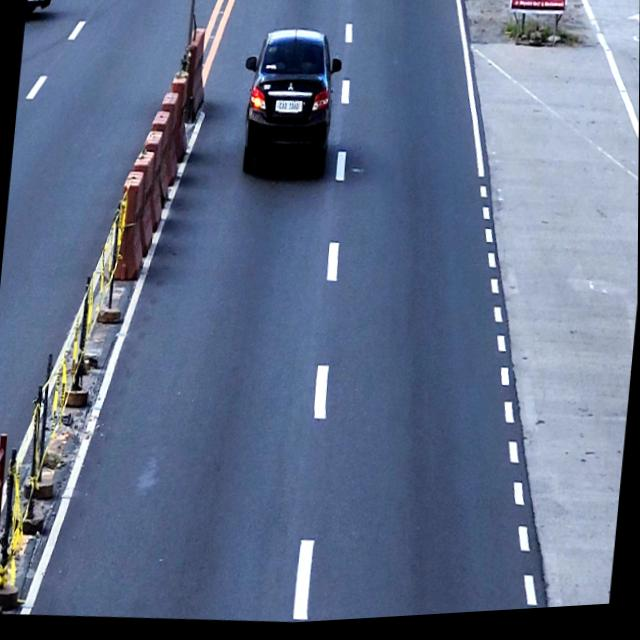Car: (235, 24, 345, 183)
License-Plate: (273, 98, 303, 119)
